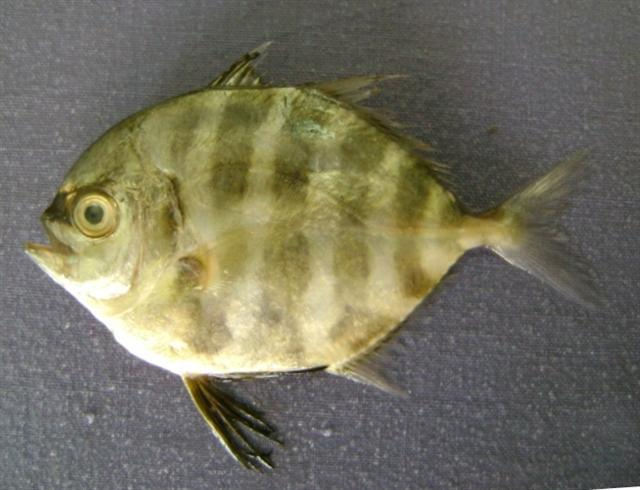Mulut: (14, 201, 80, 307)
Sirip Anal: (319, 246, 496, 406)
Sirip Dada: (164, 202, 328, 308)
Sirip Ekor: (480, 138, 620, 334)
Sirip Perut: (180, 367, 296, 485)
Sirip Punggung: (199, 33, 487, 215)
